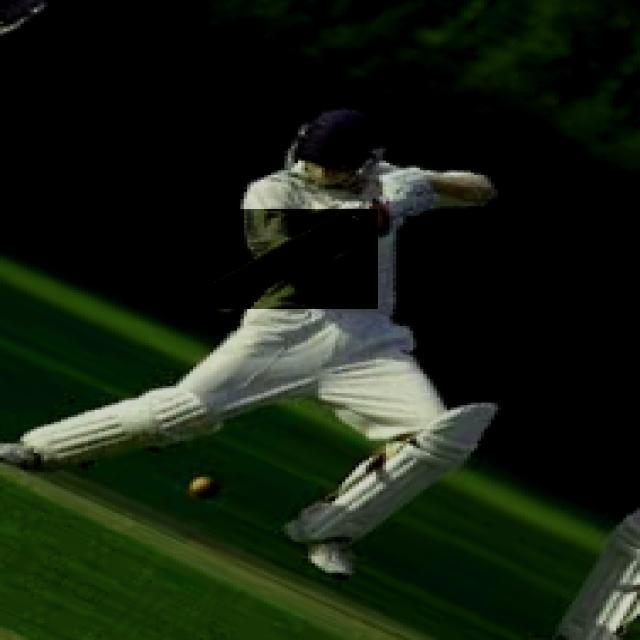bat: (211, 208, 375, 308)
toe: (209, 278, 228, 308)
